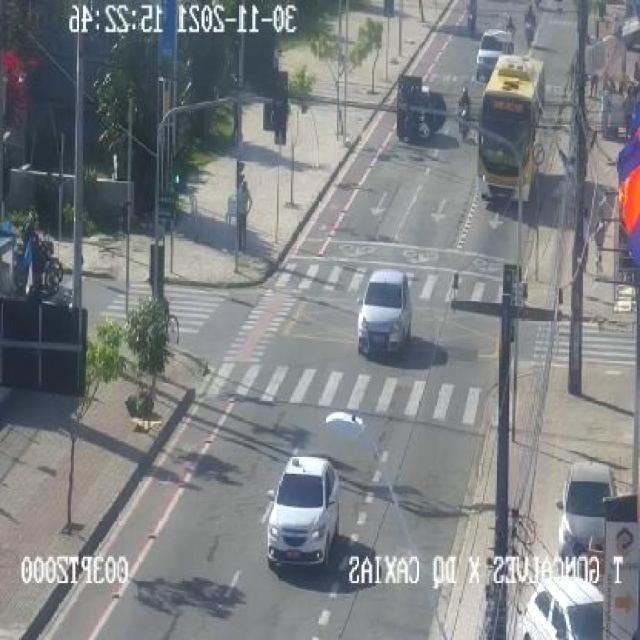Bus: (478, 57, 554, 210)
Car: (261, 452, 344, 576), (346, 269, 426, 365), (554, 465, 612, 567), (513, 580, 593, 640), (477, 32, 509, 81)
Cycle: (452, 90, 478, 148), (520, 3, 544, 52), (501, 17, 515, 50)
